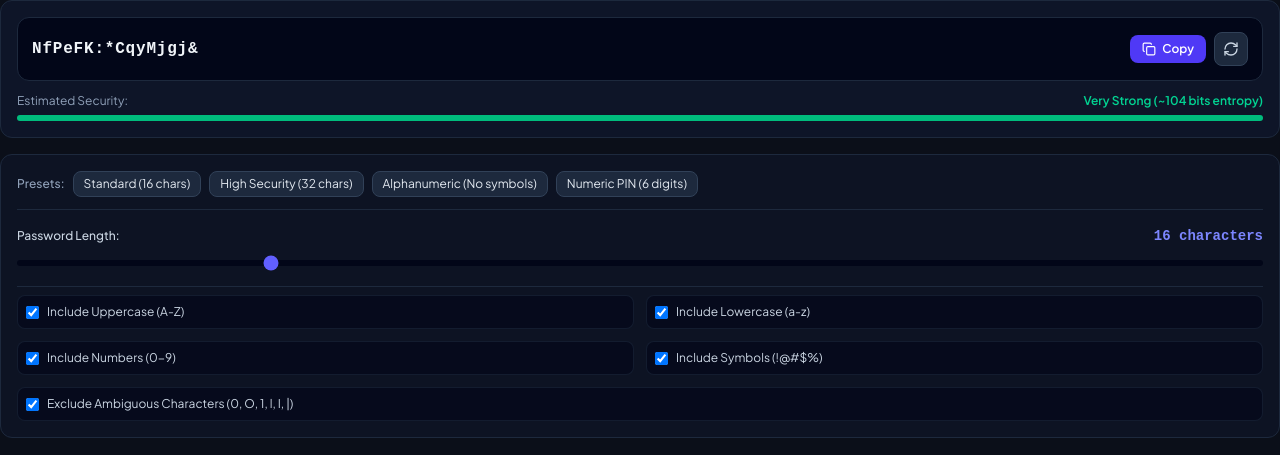
Test: PasswordGenerator Tool › applies PIN preset generating numbers only
The image size is (1280, 455).
Step 1. Click the button "Numeric PIN (6 digits)" → click(627, 184), box top-left (556, 171), bottom-right (698, 197)
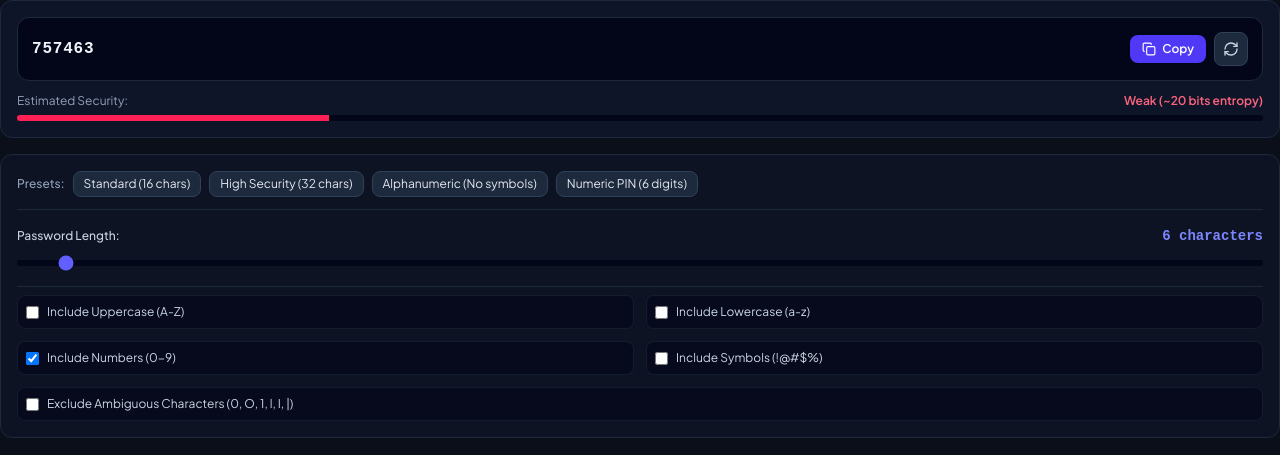
Check: the slider labelled "Password Length:" holds "6", box top-left (17, 260), bottom-right (1263, 266)
